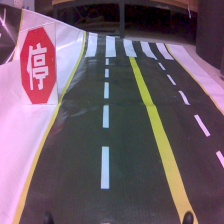stop: (18, 20, 60, 106)
